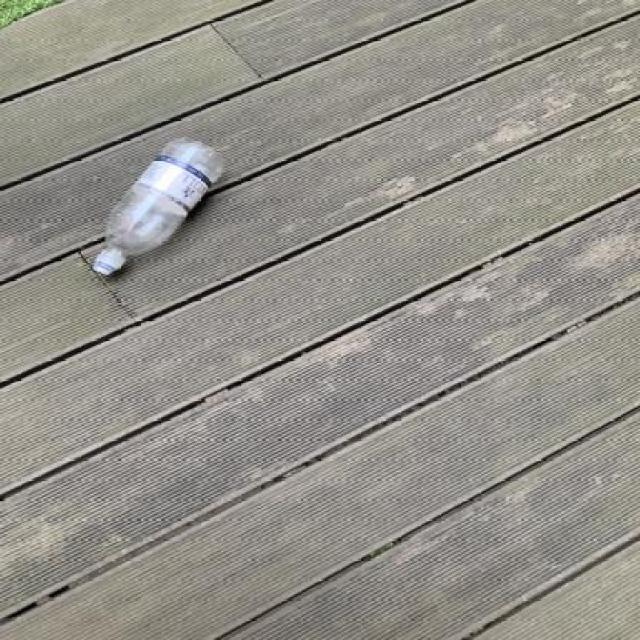trash: (91, 134, 226, 277)
